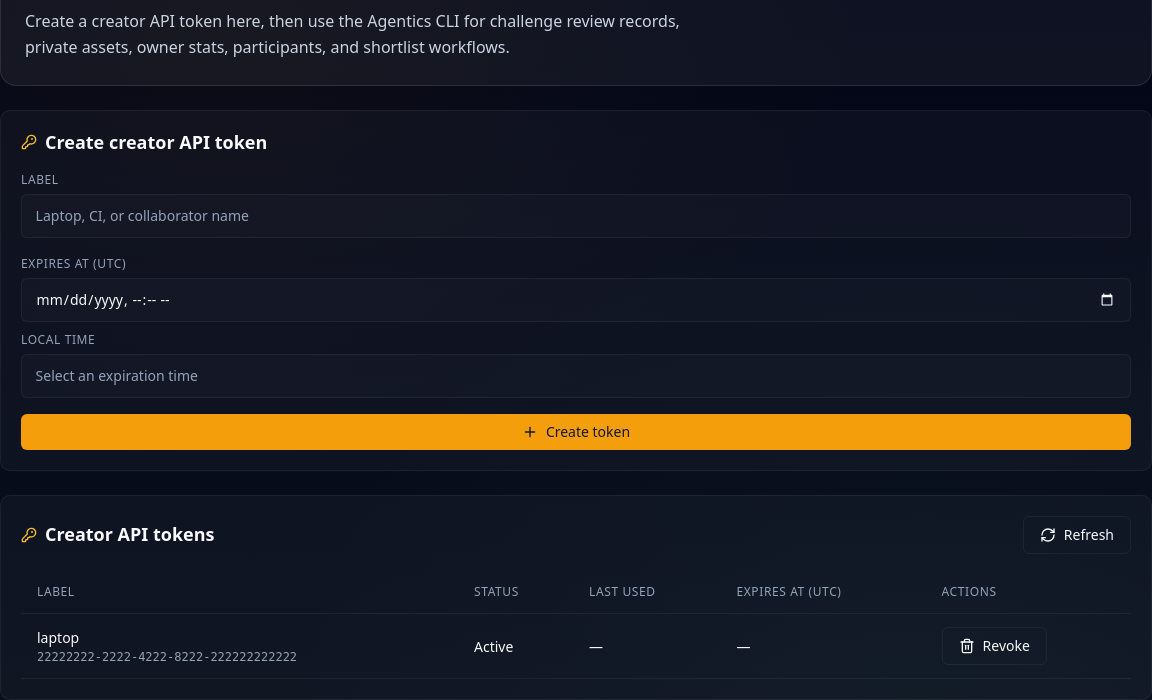
Test: CreatorConsole › revokes creator API tokens and refreshes the list
(page scrolled)
Check: the text "laptop" is shown, box [37,628,79,647]
Click the button "Revoke" at (994, 646), box [942,627,1047,665]
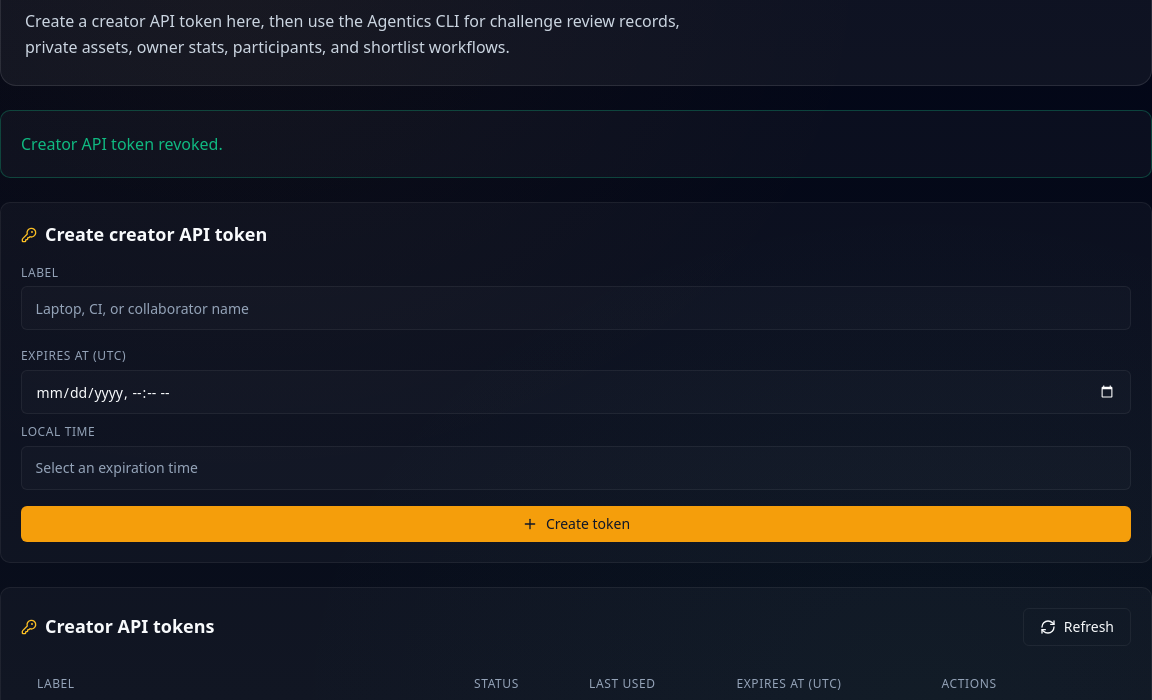
Check: the text "Creator API token revoked." is shown, box [0,110,1151,178]
